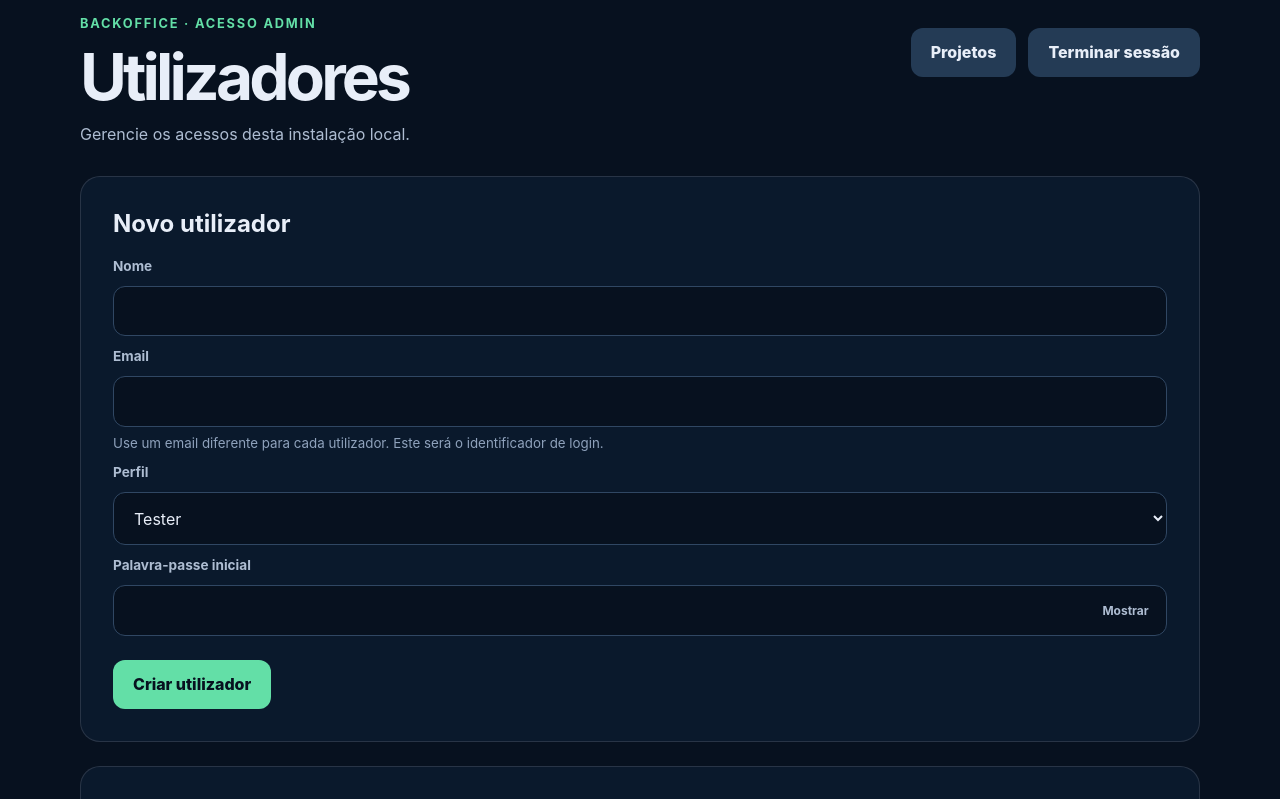
Users › creates a tester and refreshes the list
In the field labelled "Nome": (640,311) [113,286,1167,336], type "Tester"
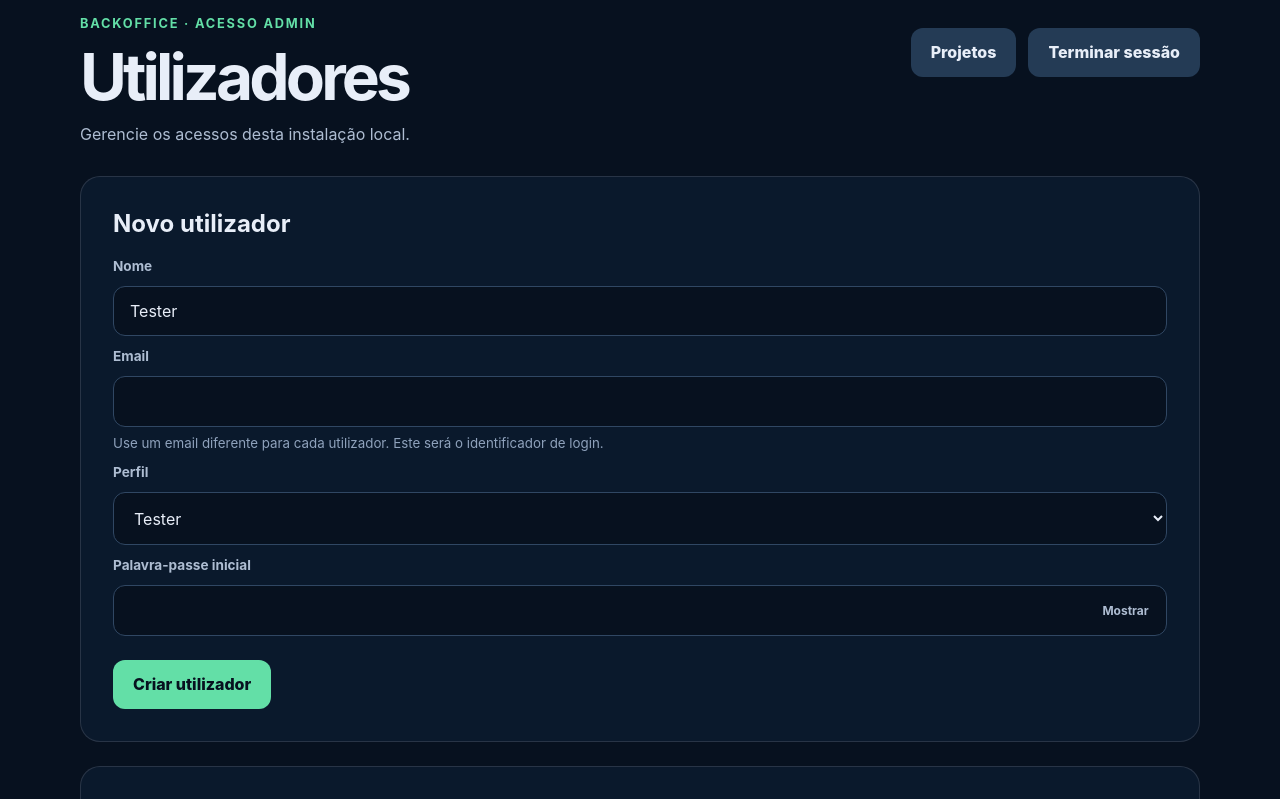
In the field labelled "Email": (640,402) [113,376,1167,427], type "tester@example.com"
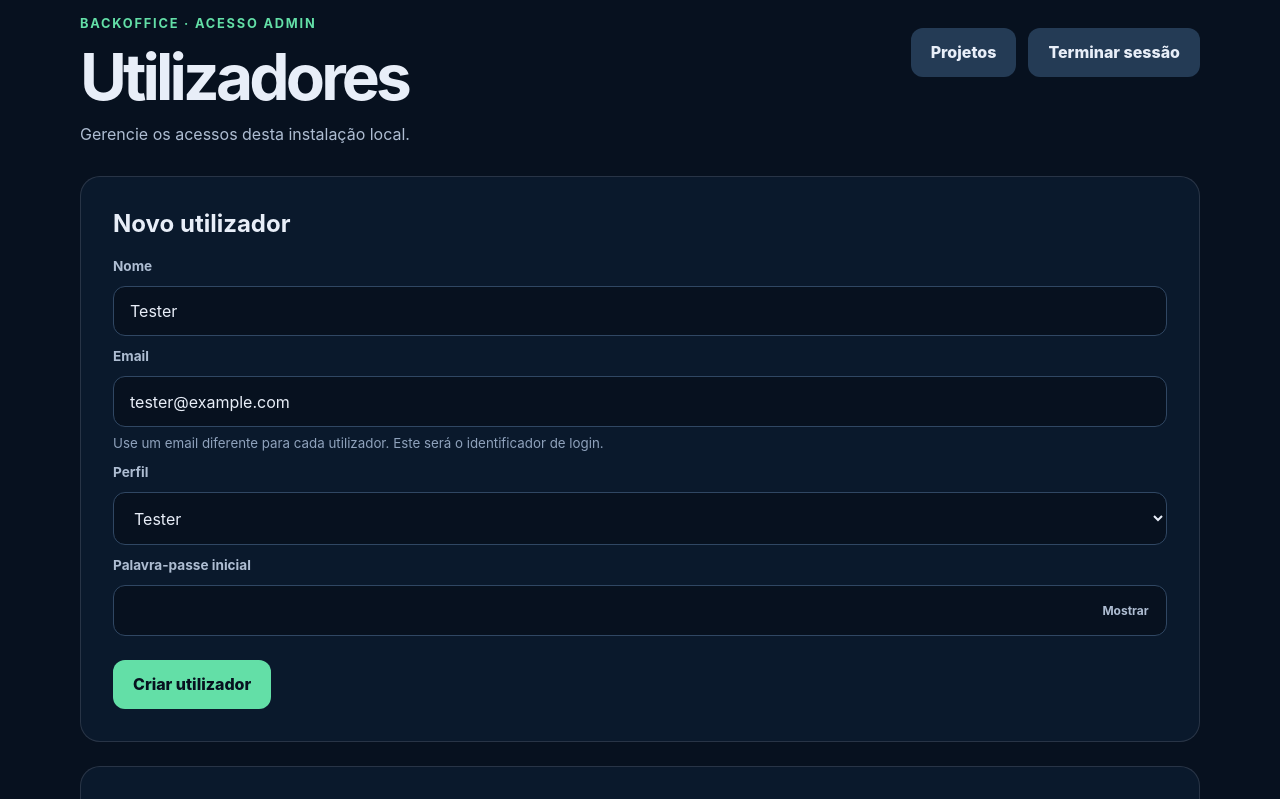
In the password field labelled "Palavra-passe inicial": (640,610) [113,585,1167,636], type "tester-password-123"
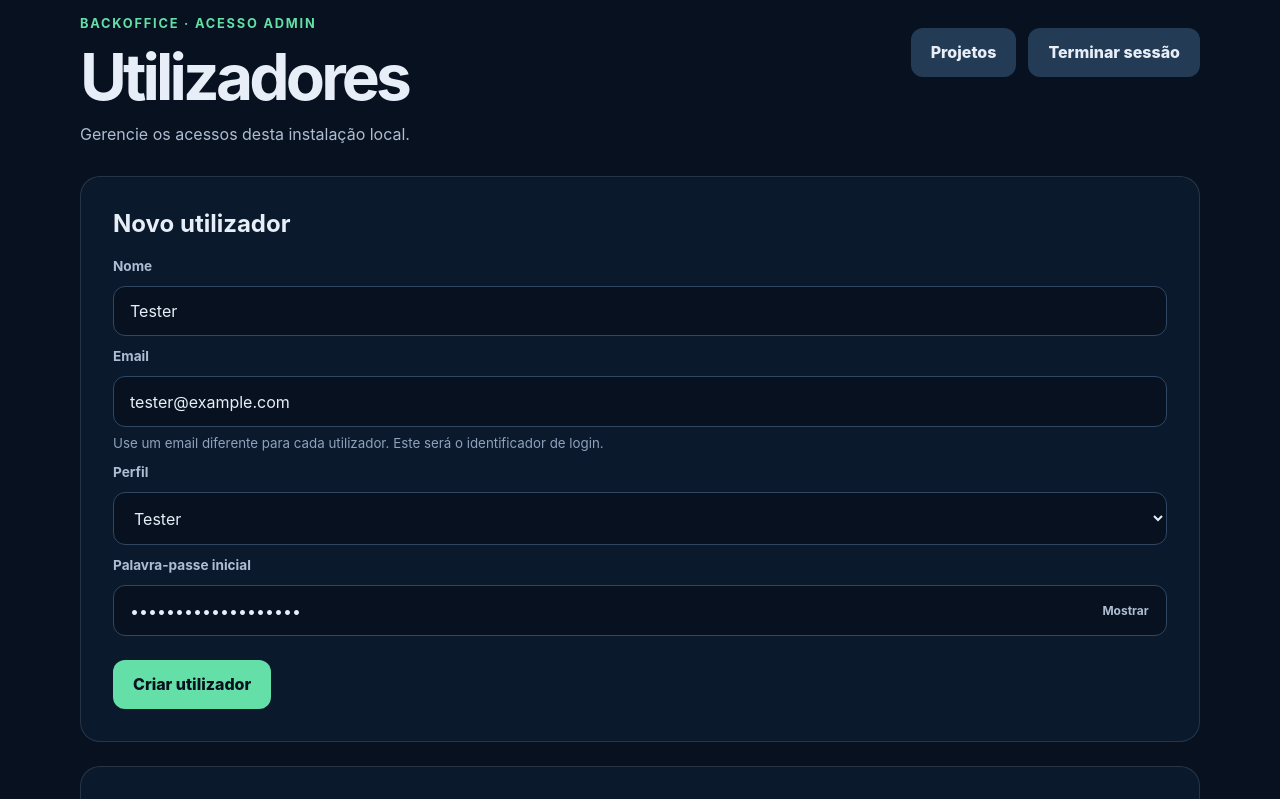
Click the button "Criar utilizador": (192,684) [113,660,271,709]
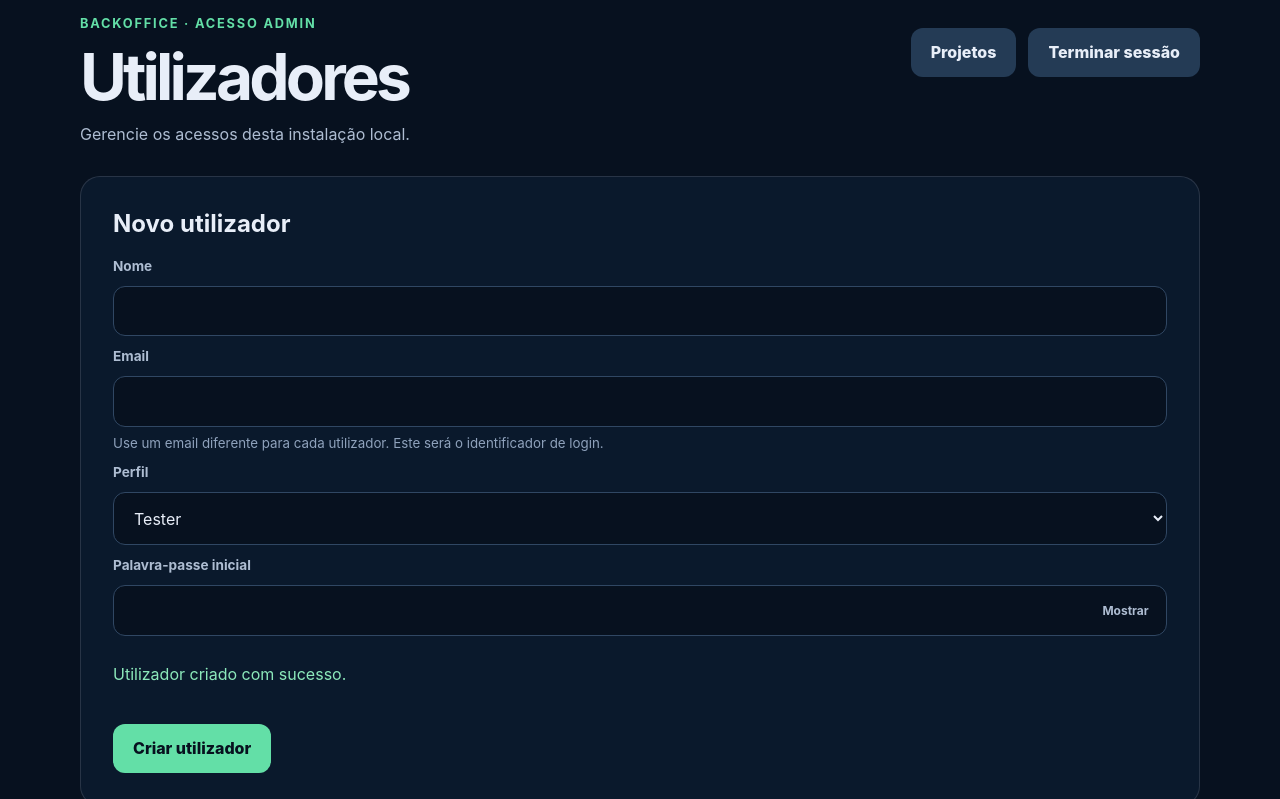
Expected: the text "Utilizador criado com sucesso." is shown, [113,664,346,684]
